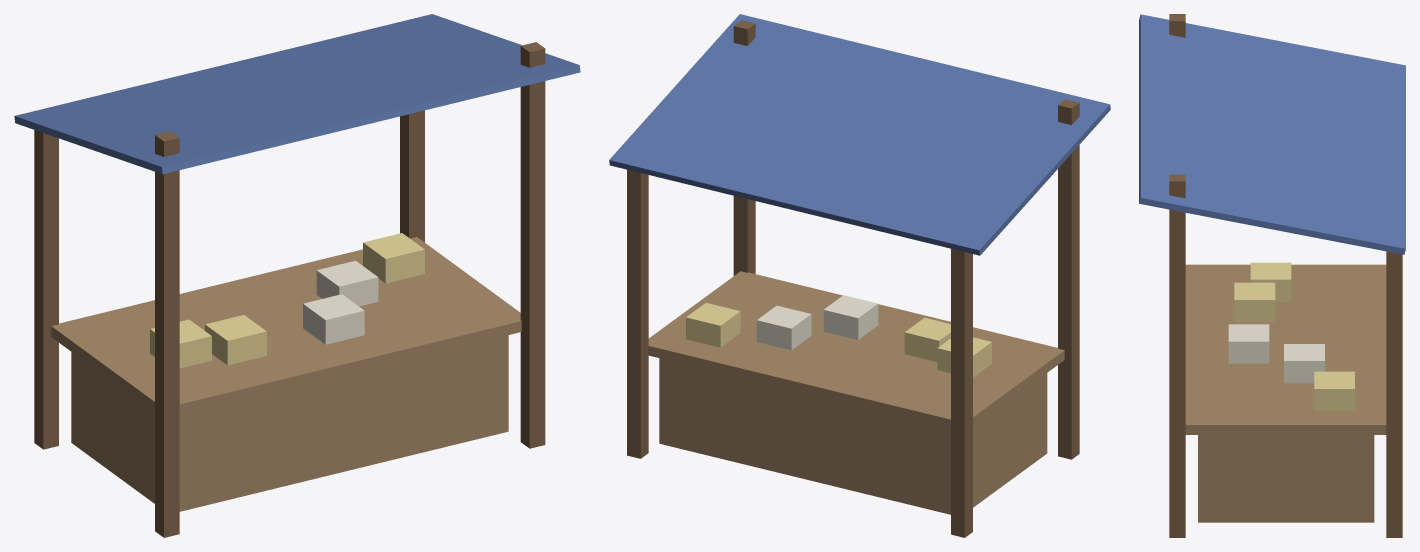
The model's file is Stall_Blue.fbx.
3 renders of one model, left to right at view 1: azimuth 30°, elevation 25°; view 2: azimuth 150°, elevation 25°; view 3: azimuth 270°, elevation 25°, orthographic. The views are drawn at different scales.
Visible parts, largest first — view 1: Stall_Blue; view 2: Stall_Blue; view 3: Stall_Blue.
Part boxes in pixels (x1=…): Stall_Blue: x1=14, y1=14, x2=580, y2=537; Stall_Blue: x1=609, y1=14, x2=1110, y2=537; Stall_Blue: x1=1139, y1=14, x2=1405, y2=537.
Size of the model in its own units: 3.2 by 1.97 by 2.9.
